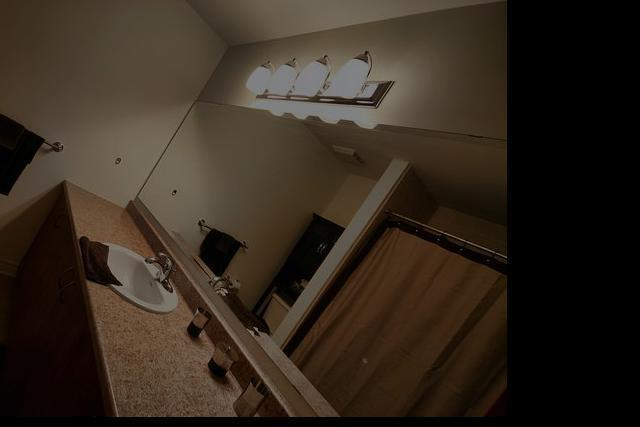Ducha: (269, 187, 506, 416)
Lavamanos: (82, 218, 198, 331)
